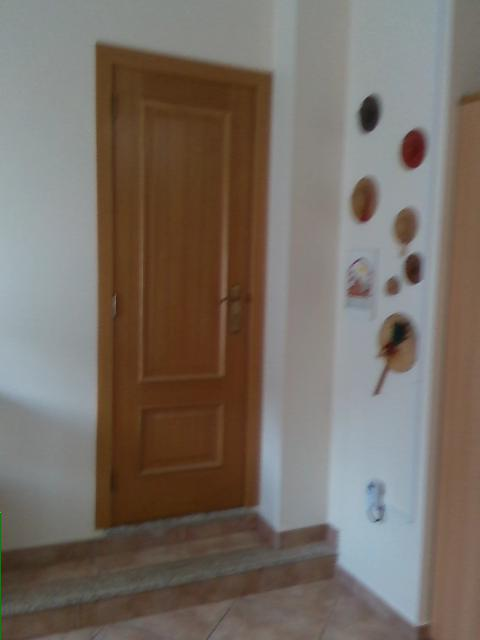door: (92, 44, 270, 532)
